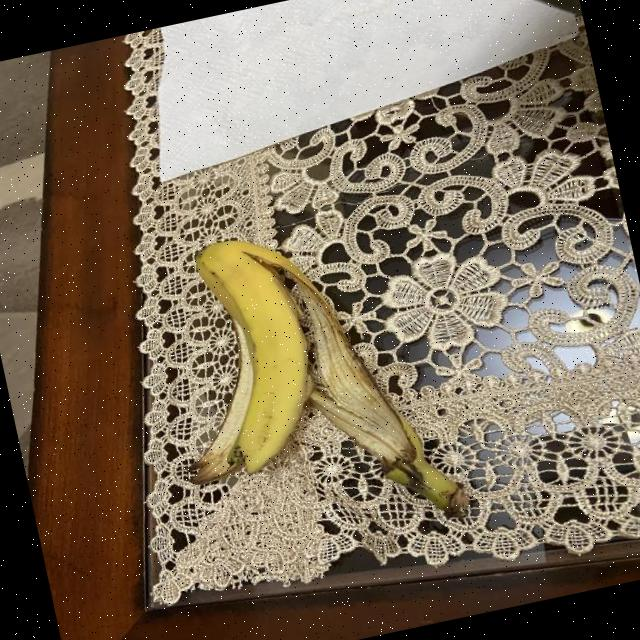banana-peel: (144, 199, 472, 569)
